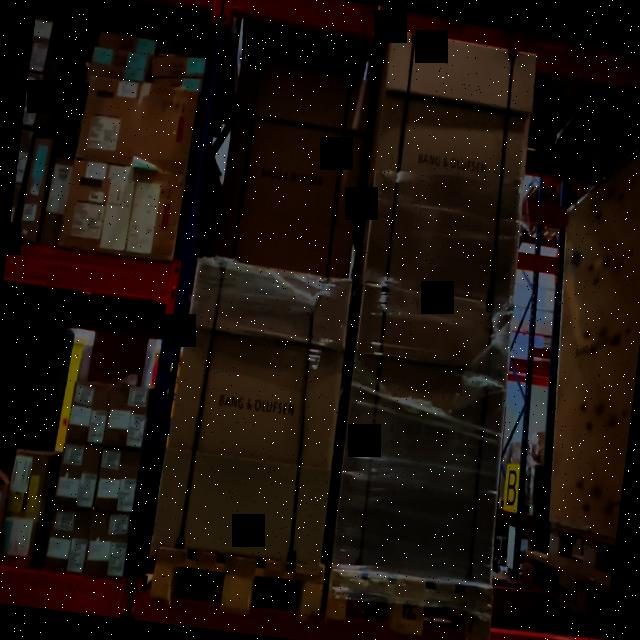box: (164, 258, 350, 564), (333, 291, 511, 584), (364, 36, 534, 298), (216, 64, 372, 271)
